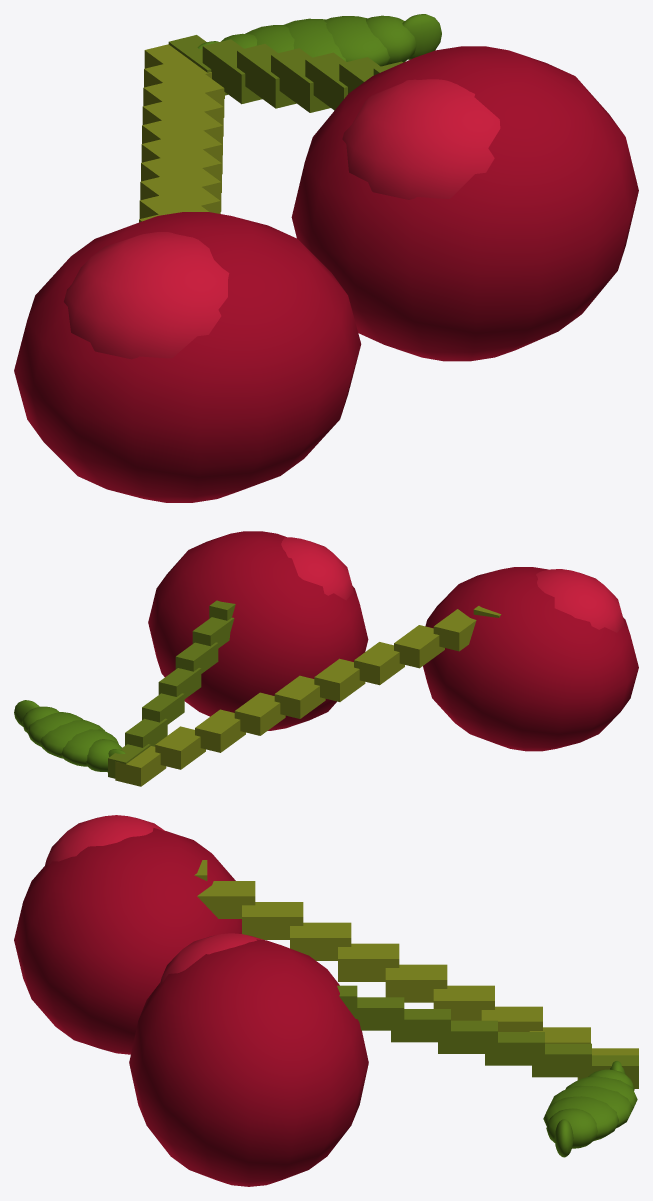
Rendered from CMU3DTwinCherries.glb.
3 renders of one model, top to bottom at view 1: azimuth 30°, elevation 25°; view 2: azimuth 150°, elevation 25°; view 3: azimuth 270°, elevation 25°, orthographic. The views are drawn at different scales.
Visible parts, largest first — view 1: red cherry (×2), cherry upper shoulder (×2), left cherry stalk (×9), right cherry stalk (×6), cherry leaf (×5); view 2: red cherry (×2), left cherry stalk (×9), cherry upper shoulder (×2), right cherry stalk (×7), cherry leaf (×5); view 3: red cherry (×2), left cherry stalk (×8), right cherry stalk (×6), cherry leaf (×5), cherry upper shoulder (×2).
Part boxes in pixels (left/top/right/bottom): red cherry (×2): left=14, top=46, right=638, bottom=502; cherry upper shoulder (×2): left=64, top=79, right=500, bottom=359; left cherry stalk (×9): left=139, top=44, right=224, bottom=218; right cherry stalk (×6): left=168, top=35, right=380, bottom=112; cherry leaf (×5): left=245, top=14, right=441, bottom=66; red cherry (×2): left=148, top=531, right=638, bottom=751; left cherry stalk (×9): left=115, top=609, right=476, bottom=786; cherry upper shoulder (×2): left=281, top=537, right=625, bottom=632; right cherry stalk (×7): left=108, top=600, right=235, bottom=778; cherry leaf (×5): left=22, top=706, right=121, bottom=771; red cherry (×2): left=14, top=828, right=368, bottom=1186; left cherry stalk (×8): left=197, top=881, right=590, bottom=1043; right cherry stalk (×6): left=357, top=997, right=638, bottom=1088; cherry leaf (×5): left=543, top=1076, right=637, bottom=1157; cherry upper shoulder (×2): left=44, top=815, right=264, bottom=984.
Size of the model in its own units: 0.3889 by 0.154 by 0.3963.
